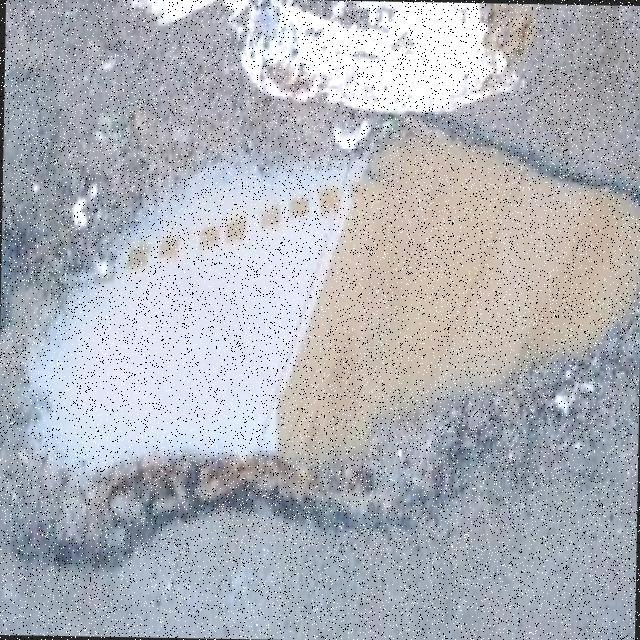Pothole: (0, 131, 640, 566)
